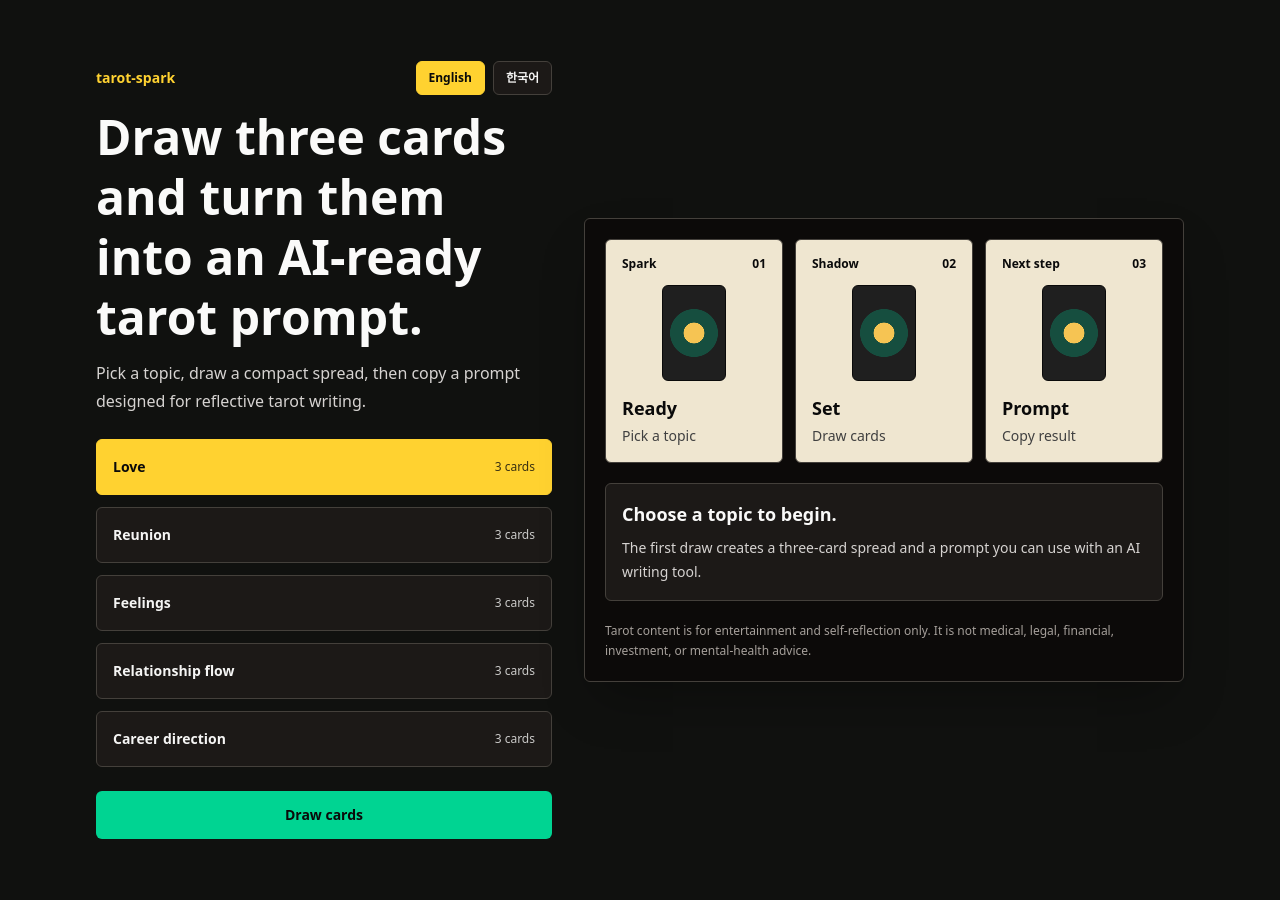
Home › shows a failure message when prompt copy is blocked
Click the button "Draw cards": {"x": 324, "y": 815} top-left (96, 791), bottom-right (552, 839)
(page scrolled)
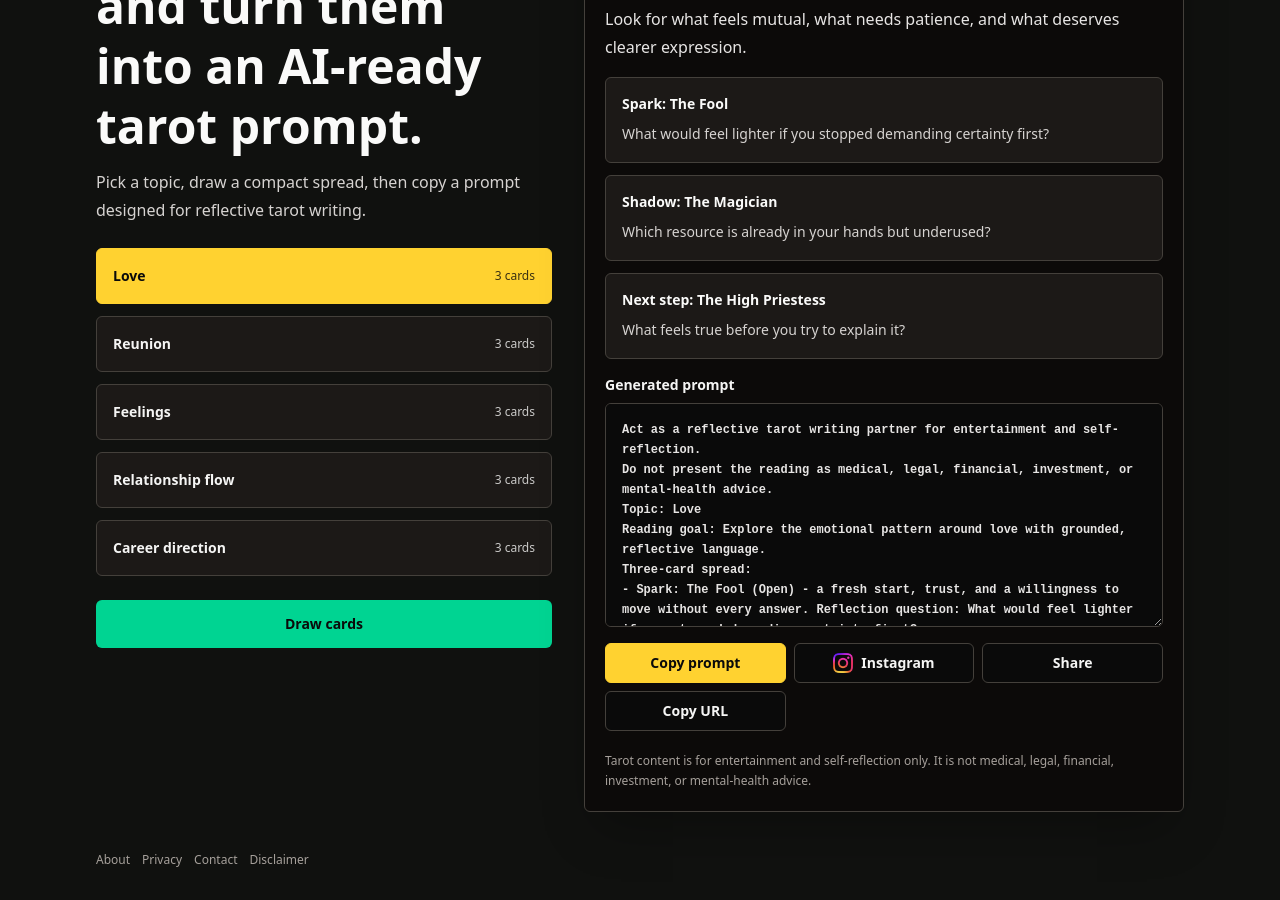
Click the button "Copy prompt": {"x": 695, "y": 663} top-left (605, 643), bottom-right (786, 683)
(page scrolled)
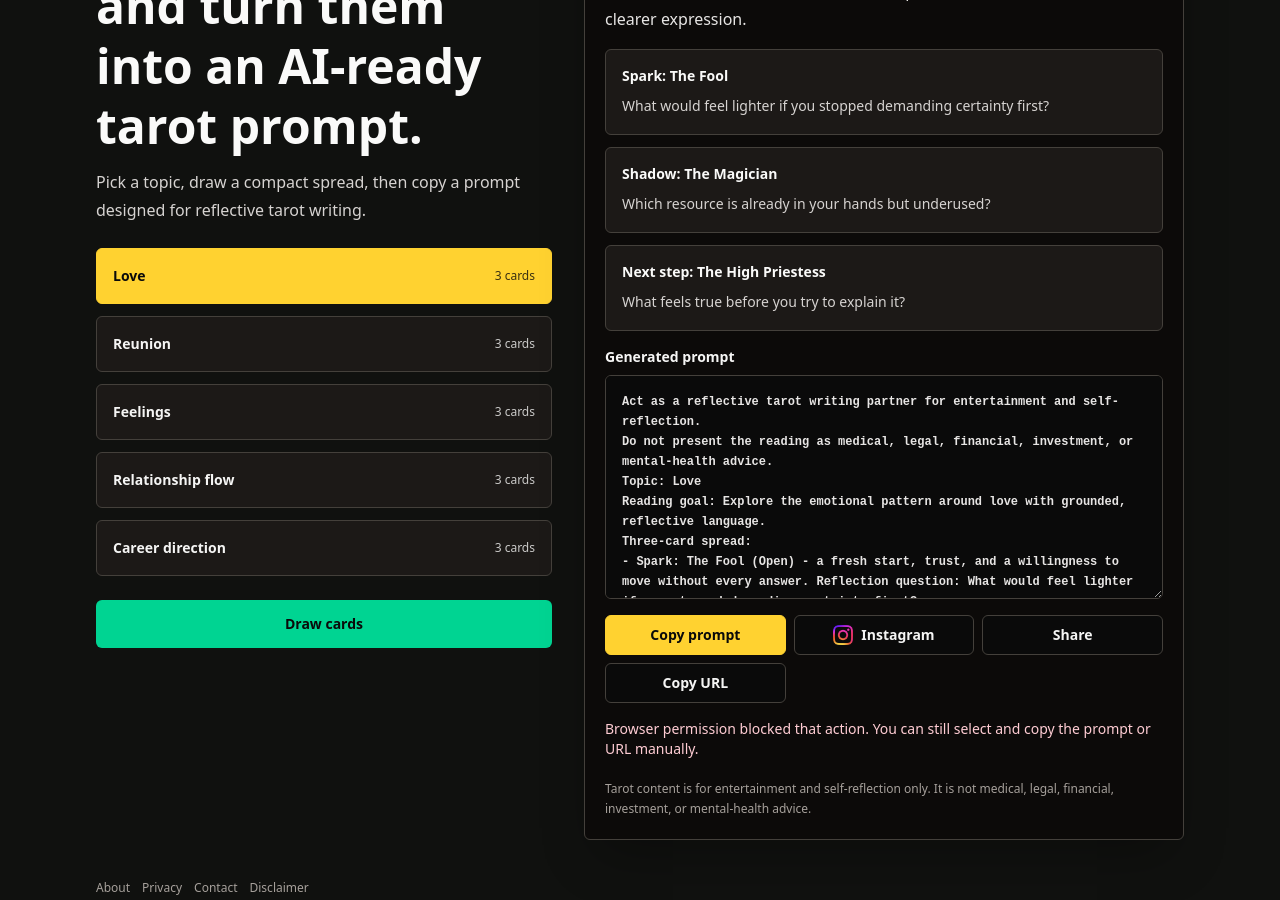
Expected: the button "Copy prompt" is shown, top-left (605, 615), bottom-right (786, 655)
Expected: the text "Browser permission blocked that action" is shown, top-left (605, 719), bottom-right (1151, 758)
